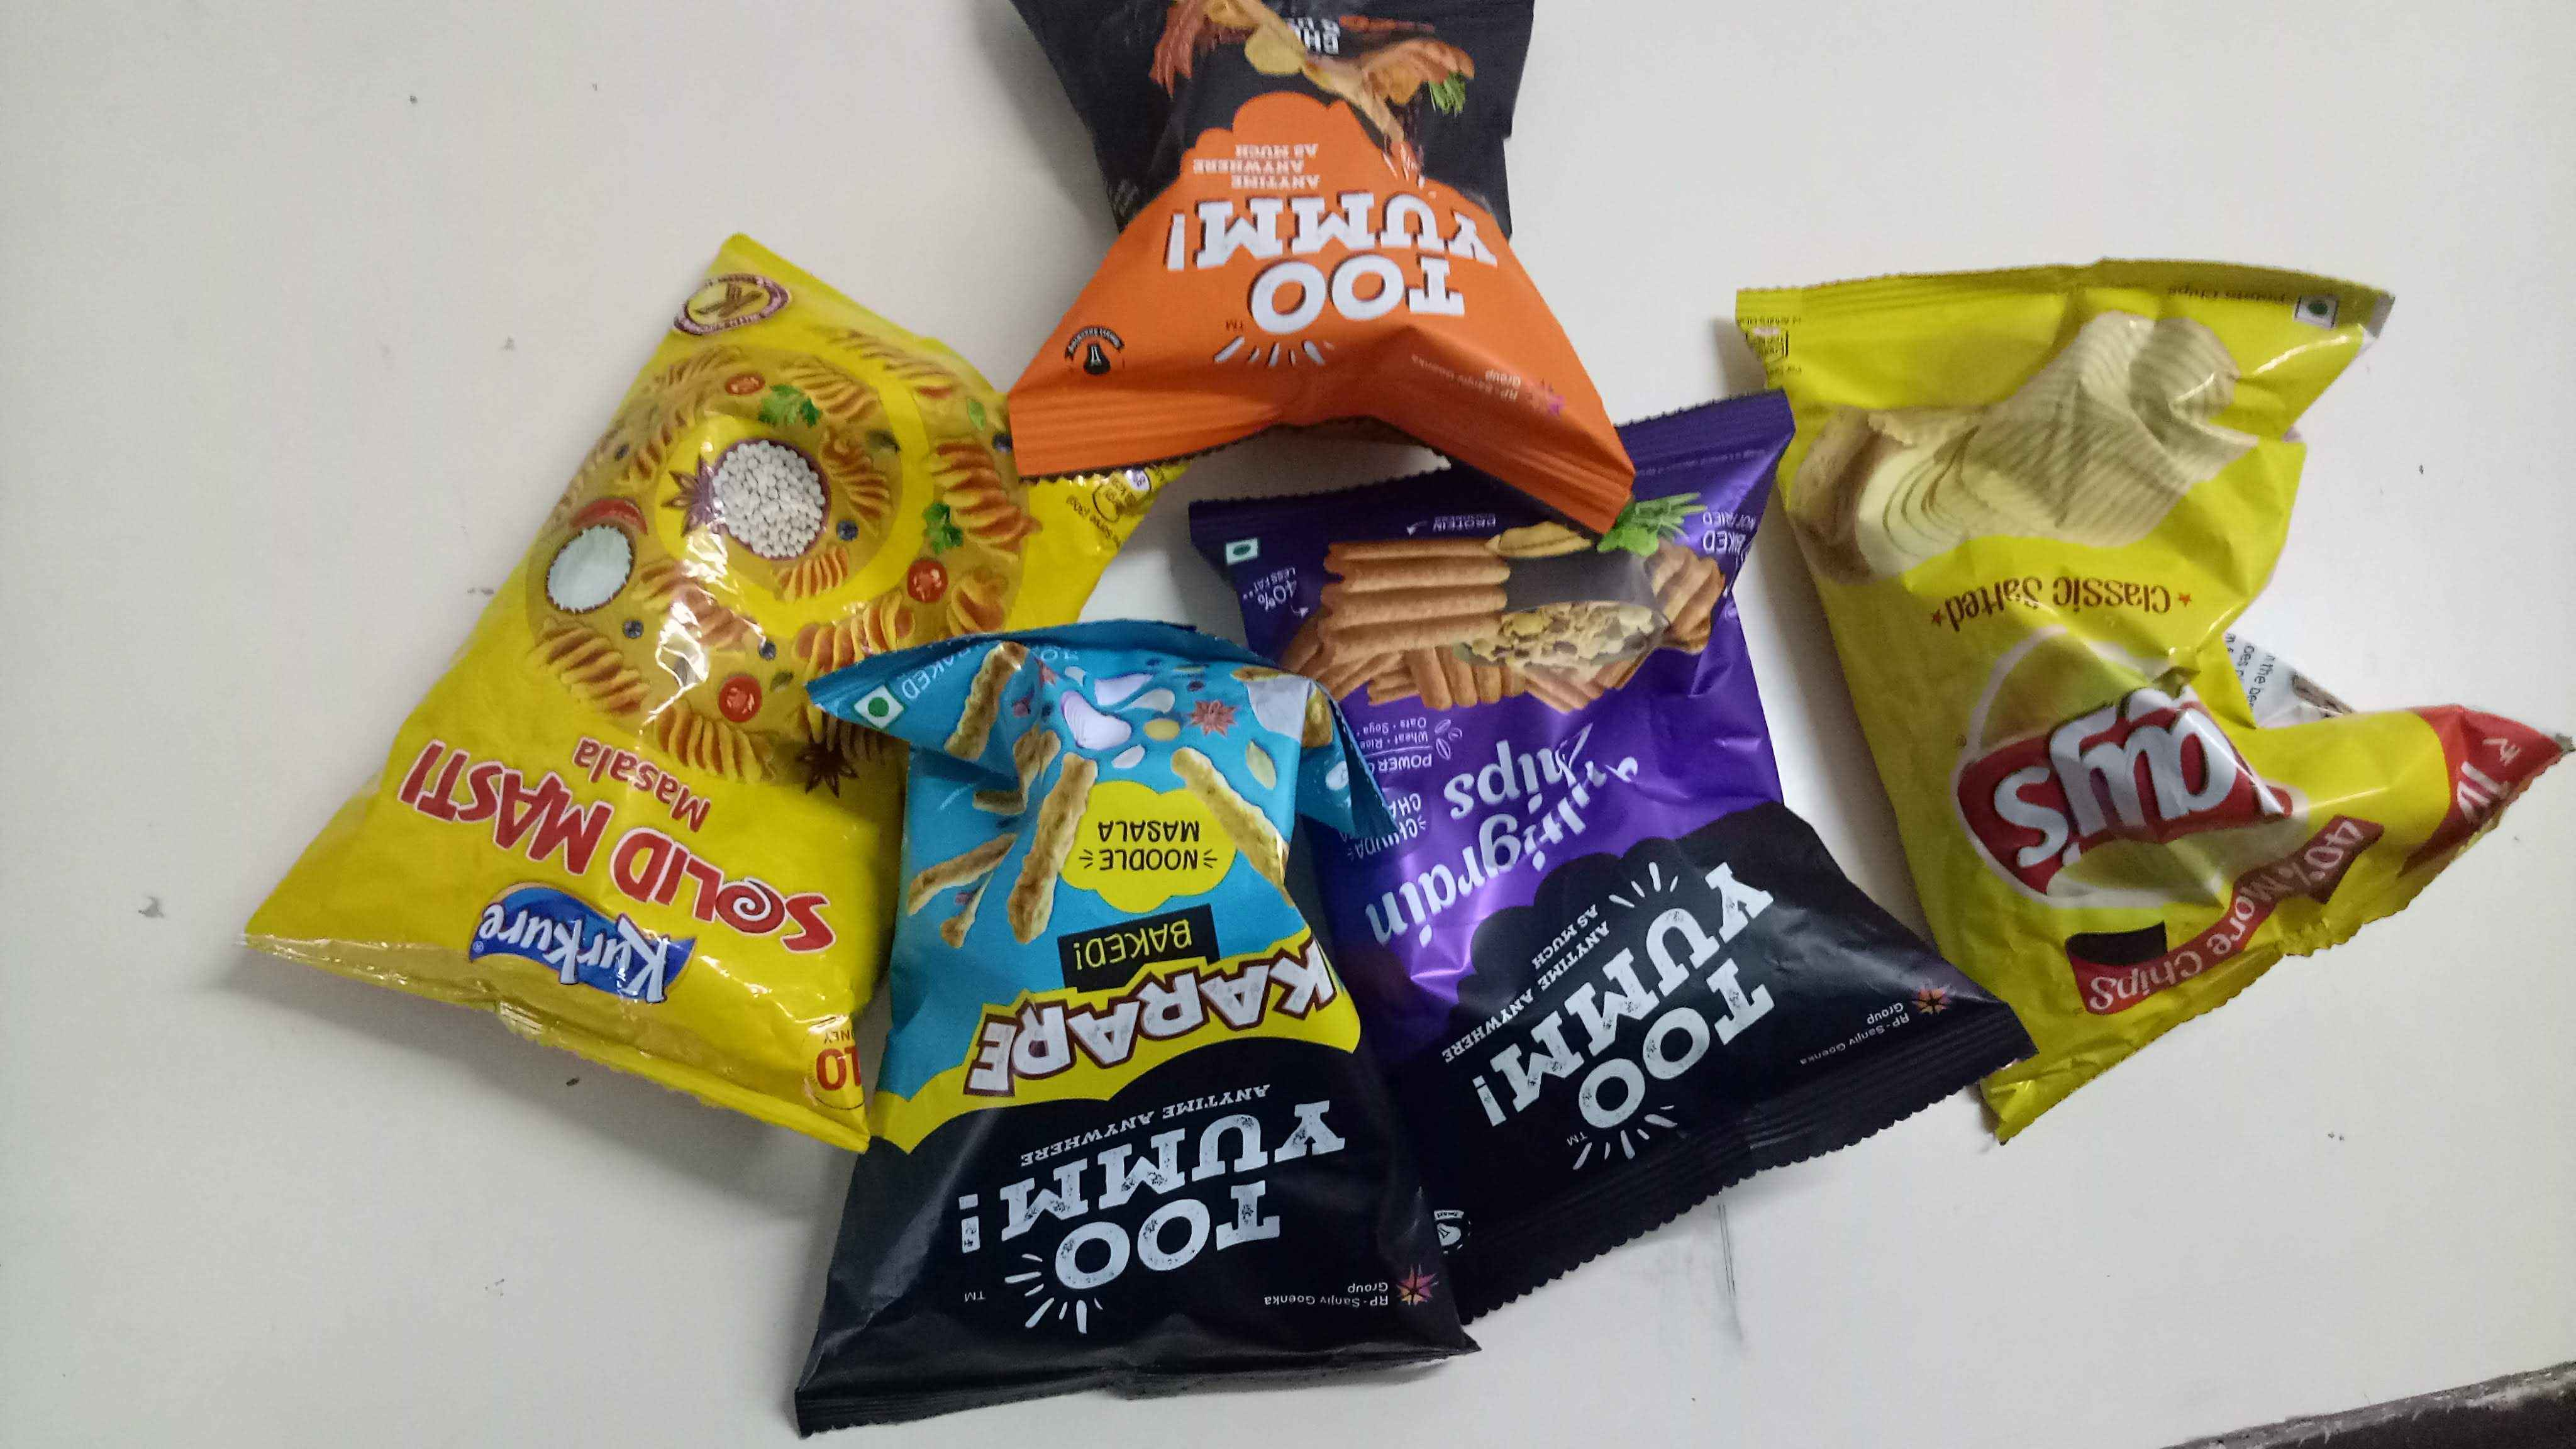Lays: (1973, 626, 2258, 915)
kurkure: (471, 876, 717, 1037)
tooyumm: (1477, 862, 1799, 1191), (968, 1086, 1345, 1334), (1138, 175, 1525, 357)
